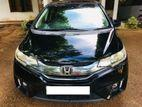car: (14, 1, 136, 99)
